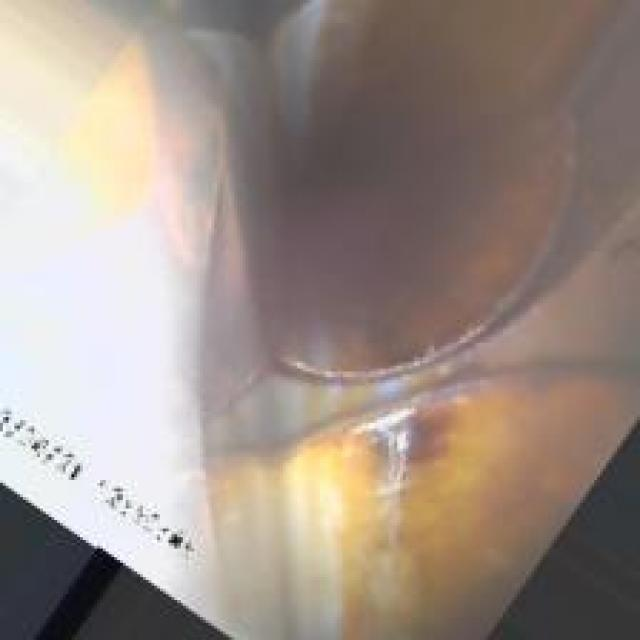joint: (228, 20, 606, 531)
